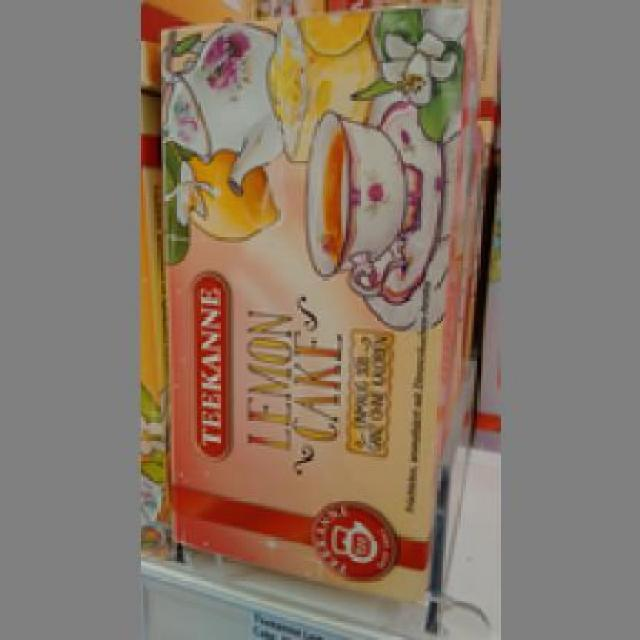Tea: (146, 2, 474, 608)
